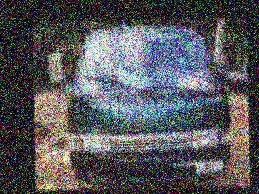van: (48, 25, 237, 183)
